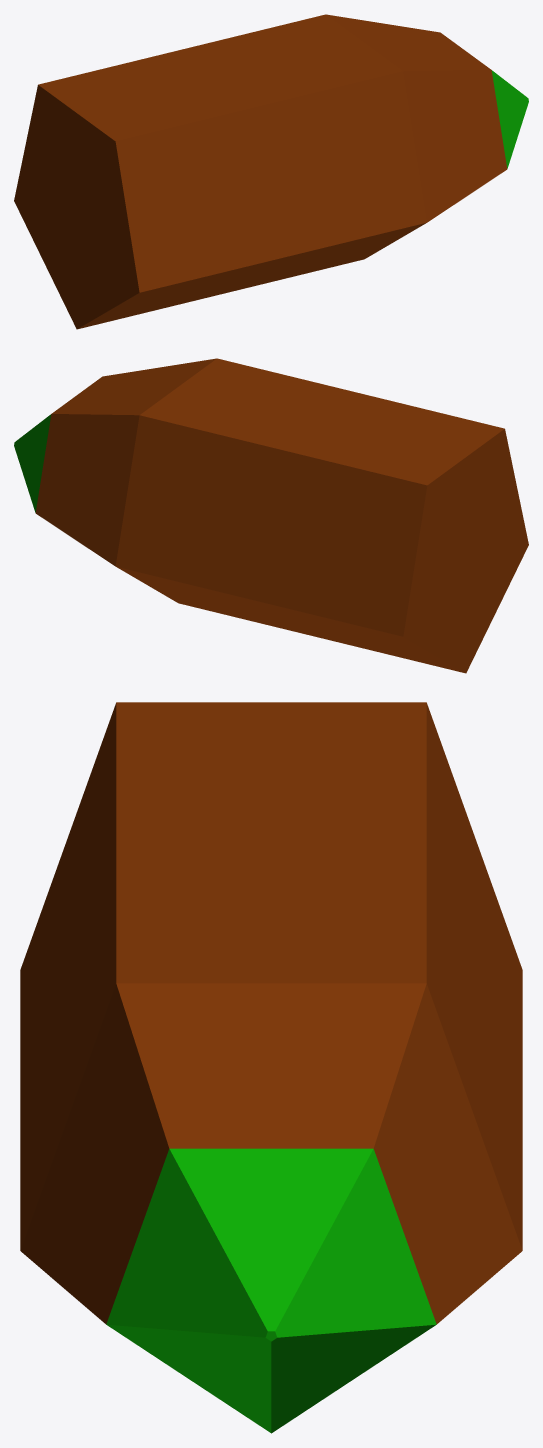
The model's file is Winchester bullet green.FBX.
3 renders of one model, top to bottom at view 1: azimuth 30°, elevation 25°; view 2: azimuth 150°, elevation 25°; view 3: azimuth 270°, elevation 25°, orthographic. The views are drawn at different scales.
Visible parts, largest first — view 1: Bullet, Bullet tip; view 2: Bullet, Bullet tip; view 3: Bullet, Bullet tip.
Boxes of the visible parts, left/top/right/bottom form: Bullet: left=14, top=14, right=507, bottom=329; Bullet tip: left=491, top=70, right=528, bottom=168; Bullet: left=35, top=358, right=528, bottom=673; Bullet tip: left=14, top=414, right=51, bottom=512; Bullet: left=20, top=702, right=522, bottom=1324; Bullet tip: left=106, top=1148, right=436, bottom=1433.
Bounding box in the file's own units: 9.68 × 4.44 × 4.67.
